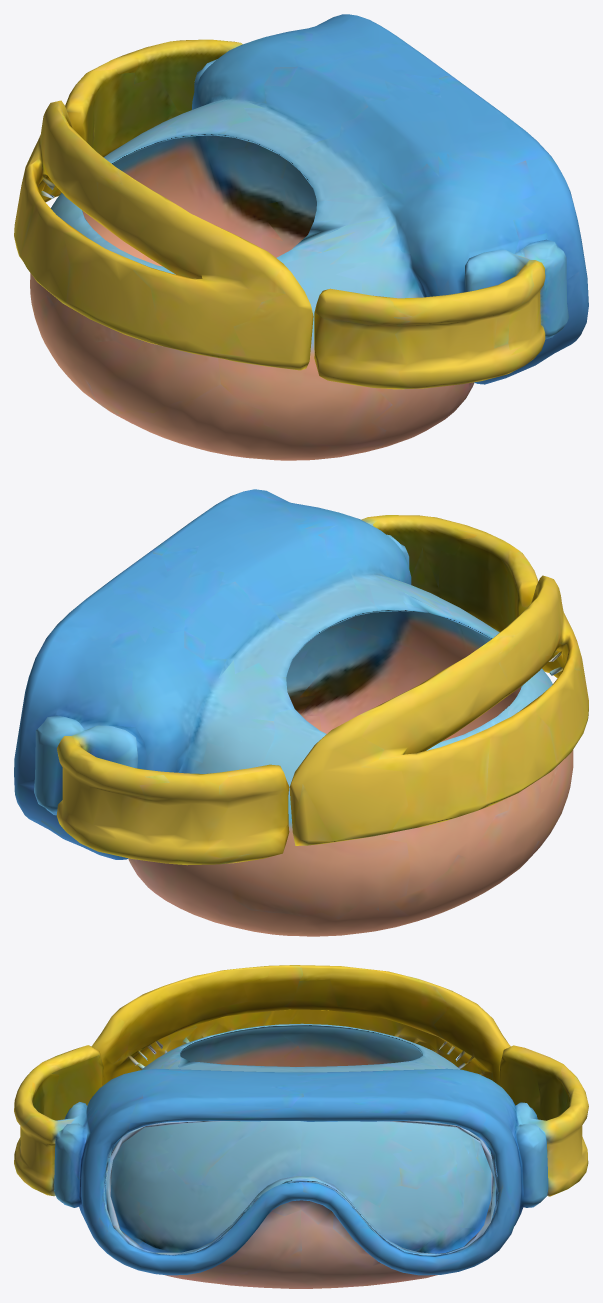
The model's file is goggles.glb.
3 renders of one model, top to bottom at view 1: azimuth 30°, elevation 25°; view 2: azimuth 150°, elevation 25°; view 3: azimuth 270°, elevation 25°, orthographic. The views are drawn at different scales.
Parts seen in each view (by area): view 1: tripo_node_ca54d740-e91e-4e36-9326-707607247225; view 2: tripo_node_ca54d740-e91e-4e36-9326-707607247225; view 3: tripo_node_ca54d740-e91e-4e36-9326-707607247225.
Boxes of the visible parts, left/top/right/bottom form: tripo_node_ca54d740-e91e-4e36-9326-707607247225: left=14, top=14, right=588, bottom=460; tripo_node_ca54d740-e91e-4e36-9326-707607247225: left=14, top=489, right=588, bottom=936; tripo_node_ca54d740-e91e-4e36-9326-707607247225: left=14, top=965, right=588, bottom=1288.
Size of the model in its own units: 0.7113 by 0.4474 by 1.
Materials: 1 (1 with a texture image).
